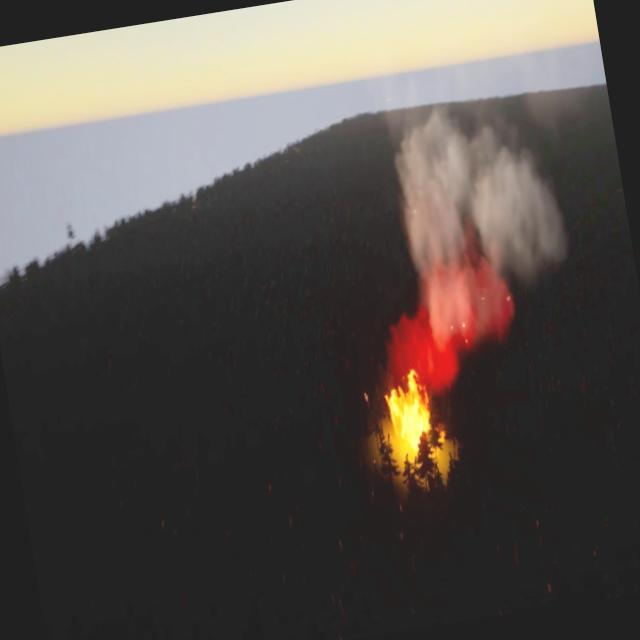fire: (378, 378, 438, 445)
smoke: (360, 90, 588, 378)
